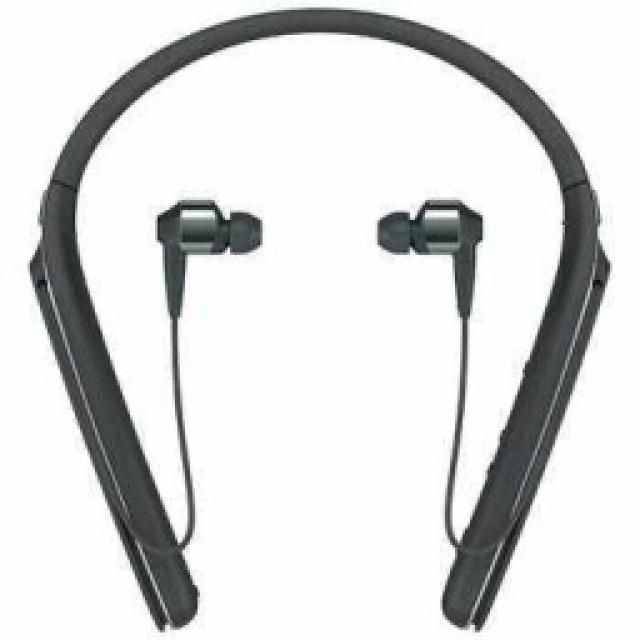headphones: (25, 5, 610, 633)
